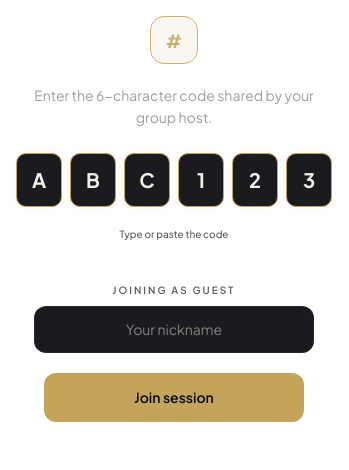
Test: SessionJoin › shows the error message returned by the API on failure
In the field with placeholder "Your nickname": (174, 329) [34,306,314,353], type "Alice"
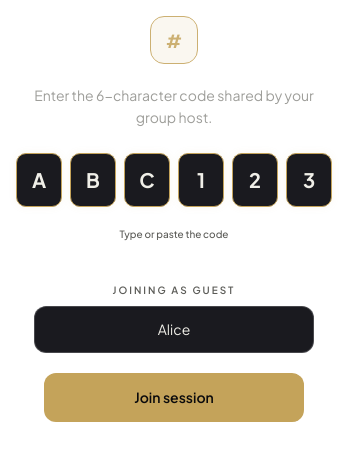
Click the button "Join session": (174, 397) [44,373,304,422]
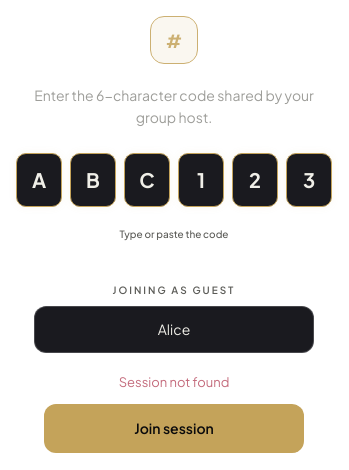
Check: the text "Session not found" is shown, box [119,373,229,392]
